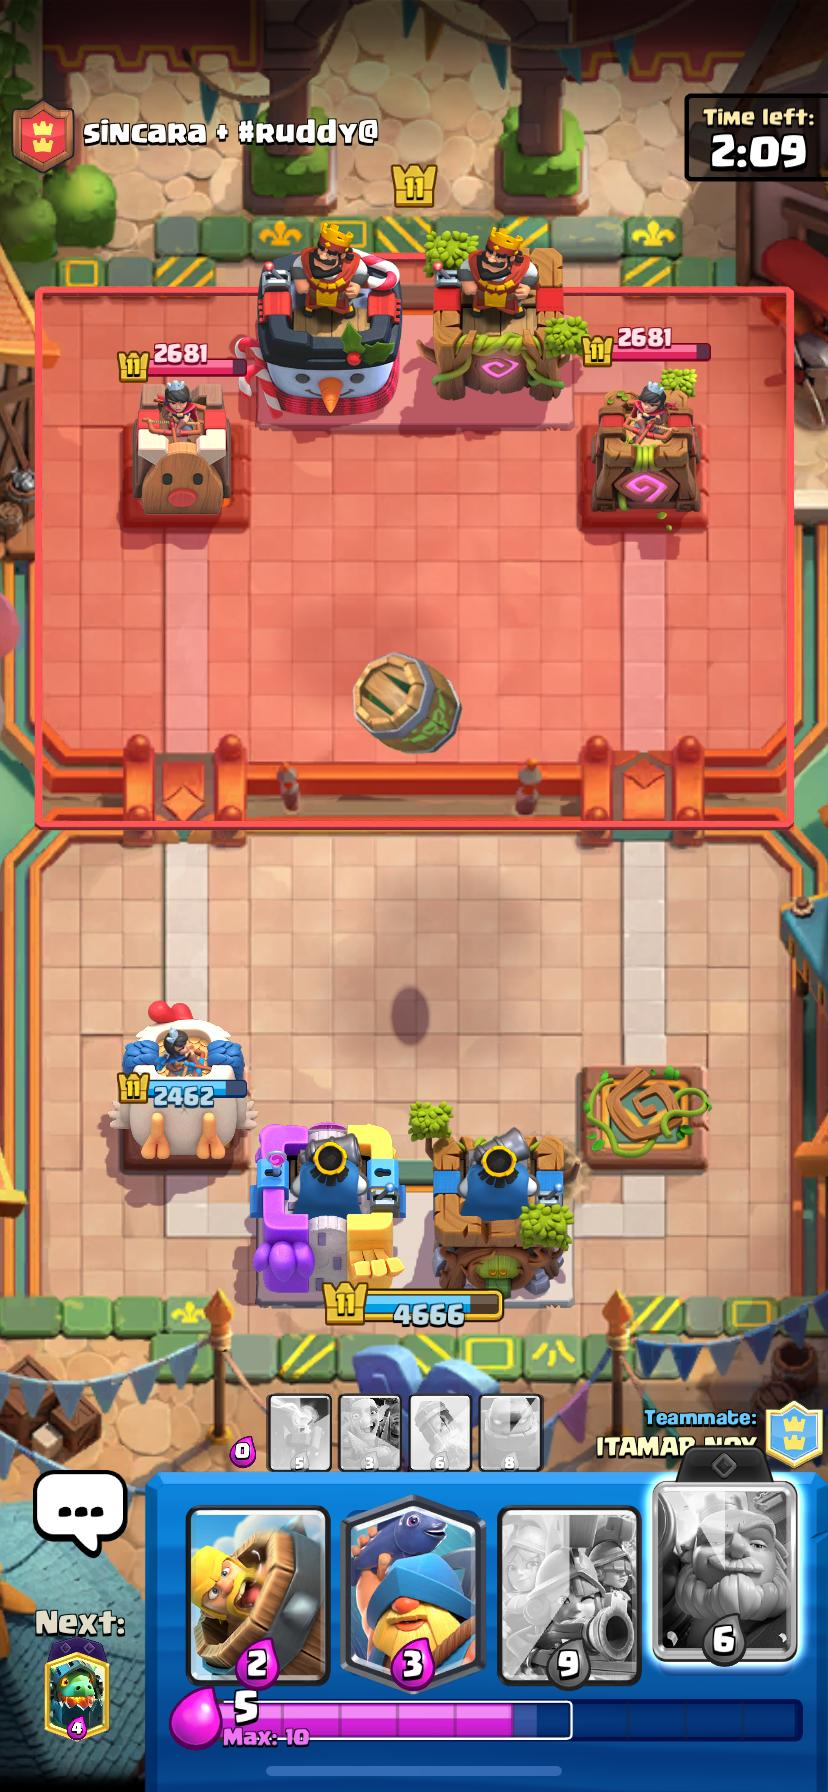EKingTower: (425, 226, 579, 401), (254, 242, 401, 417)
EnemyPrincessTower: (591, 370, 700, 513), (132, 379, 231, 521)
OGoblinBarrel: (355, 653, 461, 754)
OwnKingTower: (250, 1123, 405, 1301), (433, 1128, 578, 1295)
OwnPrincessTower: (109, 1001, 255, 1160)
TowerDown: (580, 1065, 709, 1169)
